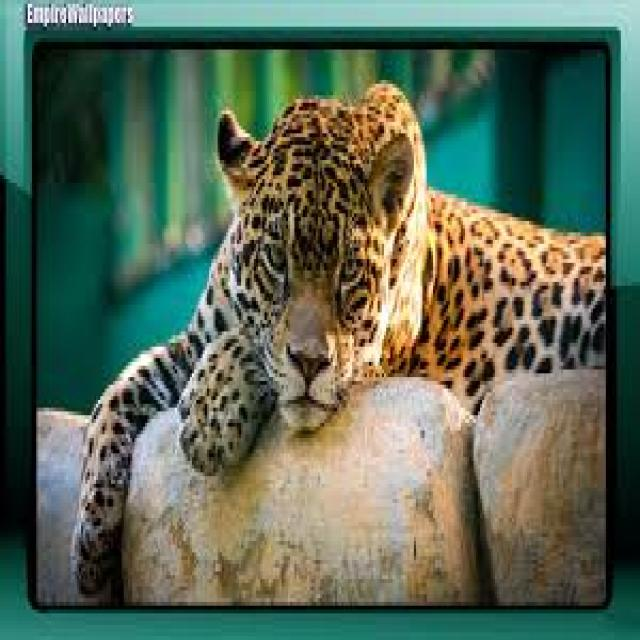Jaguar: (70, 80, 604, 598)
